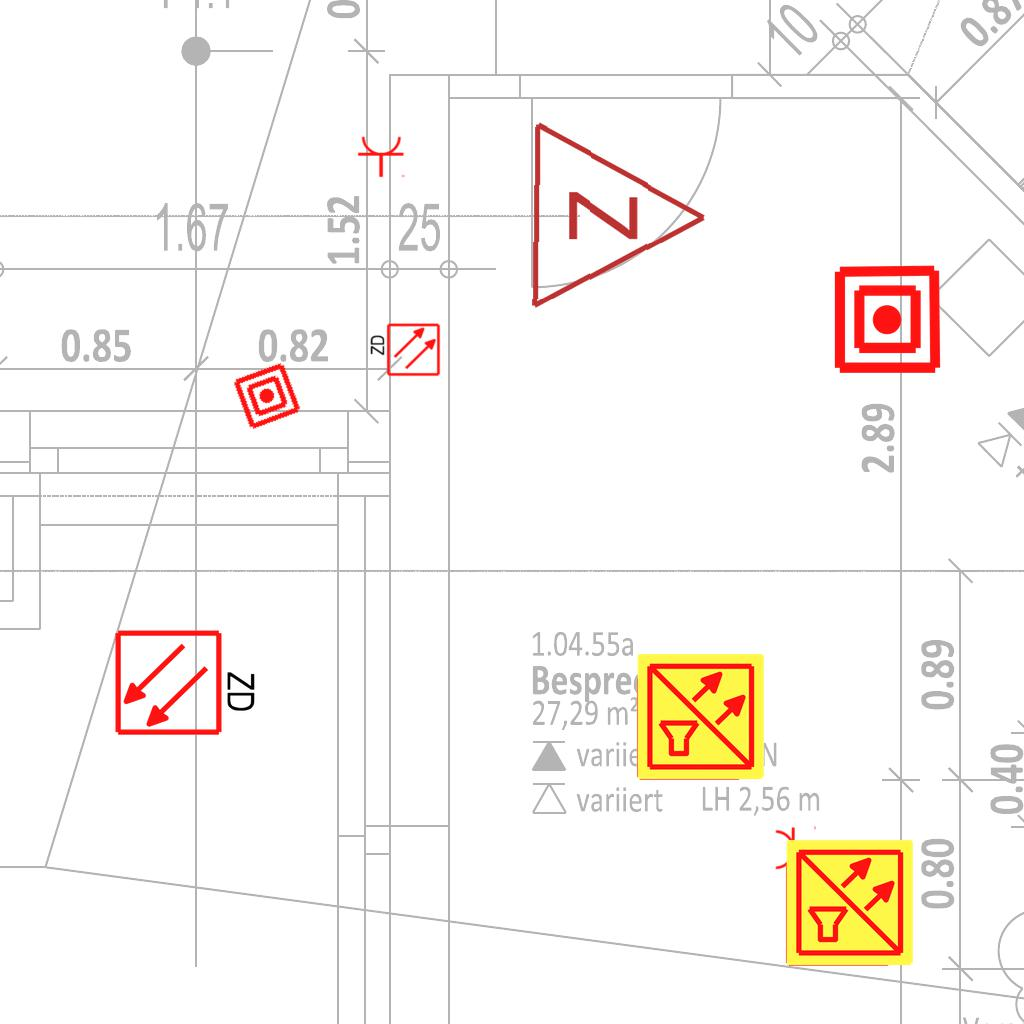NAM-Nichtautomatischer_Melder: (831, 263, 944, 376), (231, 360, 303, 432)
OKW_Multisensormelder_(Kombination_optischer_Rauch-Kahlenmonoxid_Waerme-Melder): (635, 651, 767, 783), (784, 837, 916, 969)
Schukosteckdose_einfach: (774, 824, 817, 874), (357, 135, 407, 178)
ZD_Melder_in_Zwischendecke_mit_Revisionsoeffnung_mind_40_x_40_cm: (113, 624, 262, 738), (367, 322, 441, 379)
Zimmersignalleuchte: (517, 114, 721, 314)
